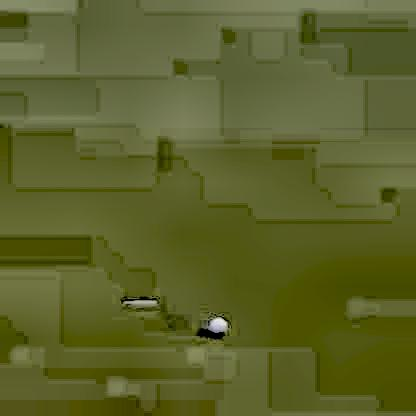golfball: (205, 313, 226, 335)
